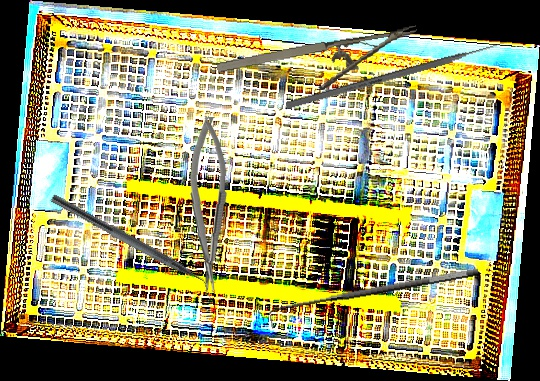Chopper: (44, 193, 221, 302)
Hook Surgical: (267, 265, 482, 330)
Needle Holder: (215, 25, 424, 106), (185, 115, 230, 293)
Pusher: (285, 38, 510, 110)
